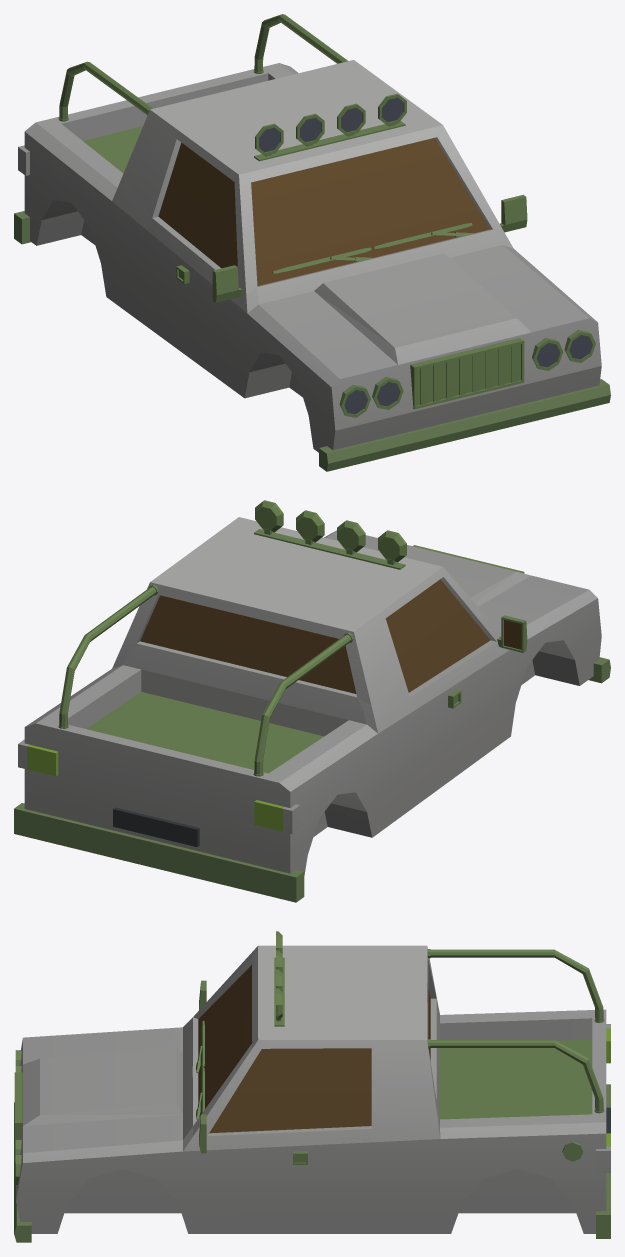
The model's file is Car_37.fbx.
3 renders of one model, top to bottom at view 1: azimuth 30°, elevation 25°; view 2: azimuth 150°, elevation 25°; view 3: azimuth 270°, elevation 25°, orthographic. The views are drawn at different scales.
Visible parts, largest first — view 1: Car_37; view 2: Car_37; view 3: Car_37.
Boxes of the visible parts, <box> form: Car_37: <box>14,14,610,471</box>; Car_37: <box>14,500,610,902</box>; Car_37: <box>14,931,610,1242</box>.
Size of the model in its own units: 1.87 by 1.3 by 3.28.
